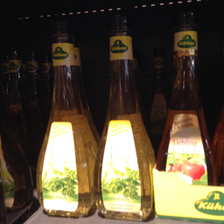vinegar: (96, 23, 154, 222), (36, 36, 98, 216), (156, 26, 221, 191)
